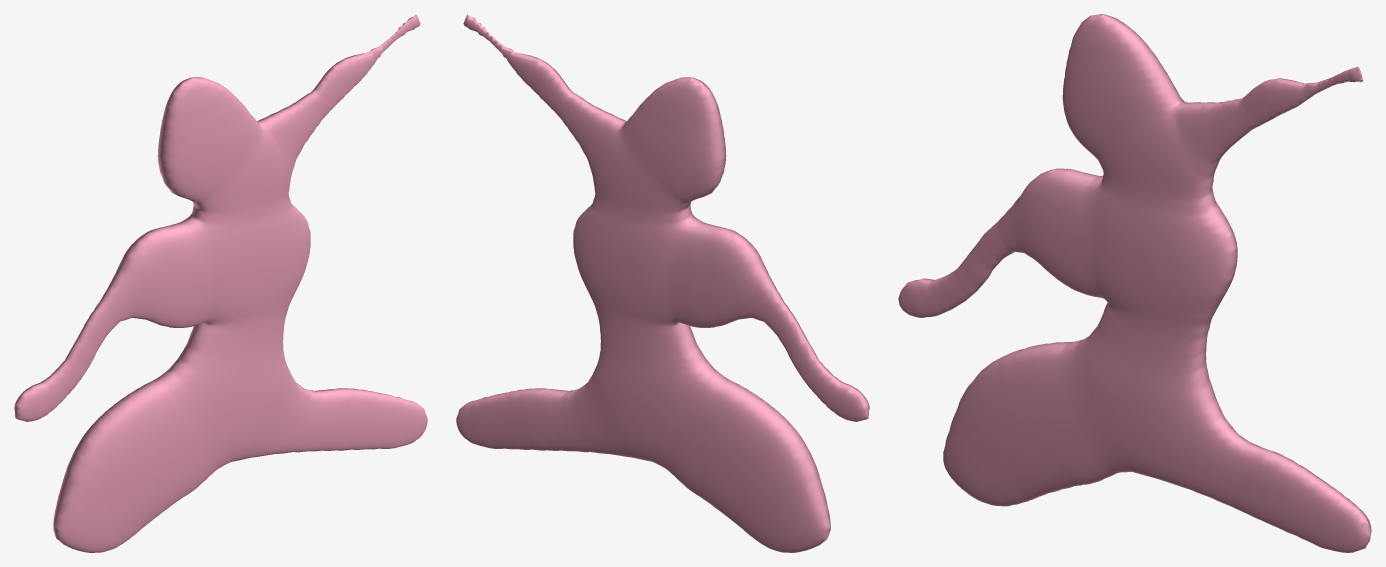
File: pinky3.fbx
3 renders of one model, left to right at view 1: azimuth 30°, elevation 25°; view 2: azimuth 150°, elevation 25°; view 3: azimuth 330°, elevation 25°, orthographic. The views are drawn at different scales.
Visible parts, largest first — view 1: root; view 2: root; view 3: root.
Part boxes in pixels (box(x1,y1,x2,y2)): root: box(14, 14, 427, 552); root: box(456, 14, 869, 552); root: box(898, 14, 1371, 552).
Size of the model in its own units: 0.3332 by 0.3556 by 0.0496.
